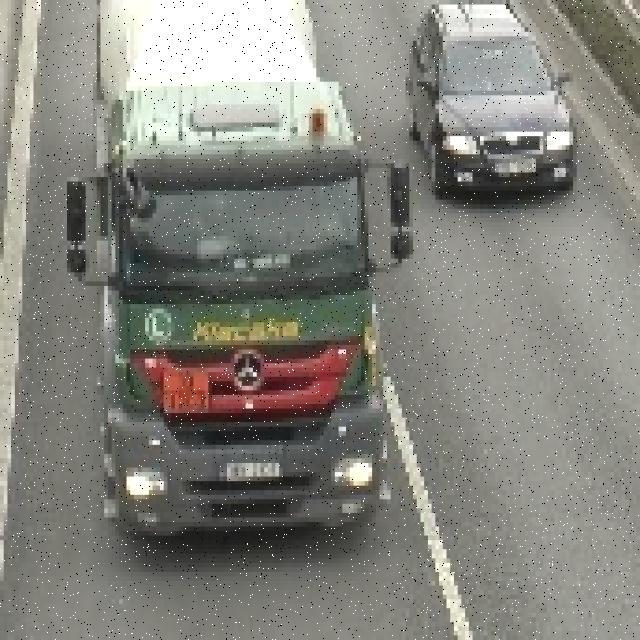truck: (70, 0, 420, 545)
